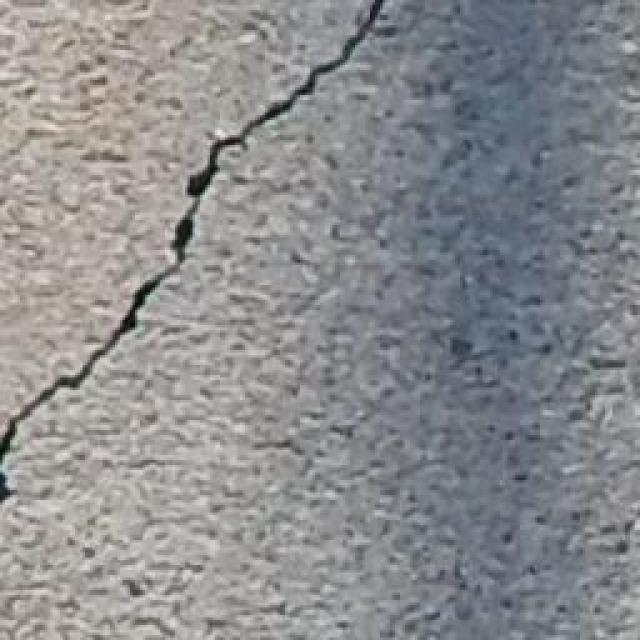concrete-crack: (0, 0, 398, 510)
